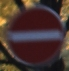No entry: (6, 6, 63, 65)
